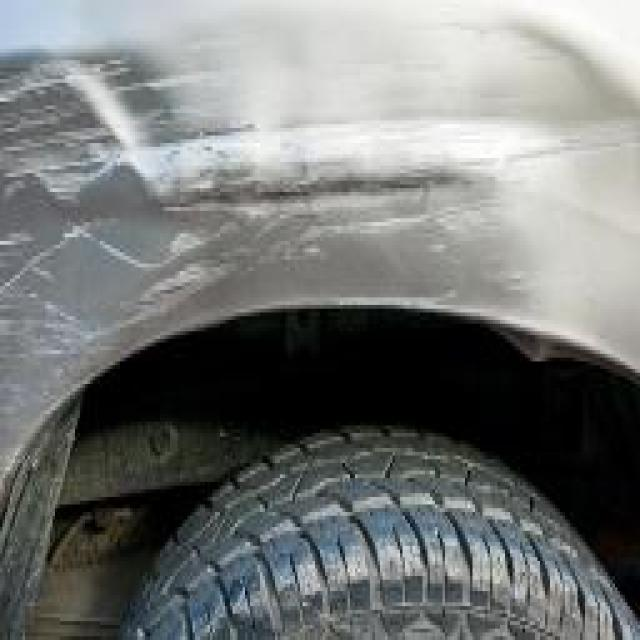Fender: (0, 4, 640, 369)
